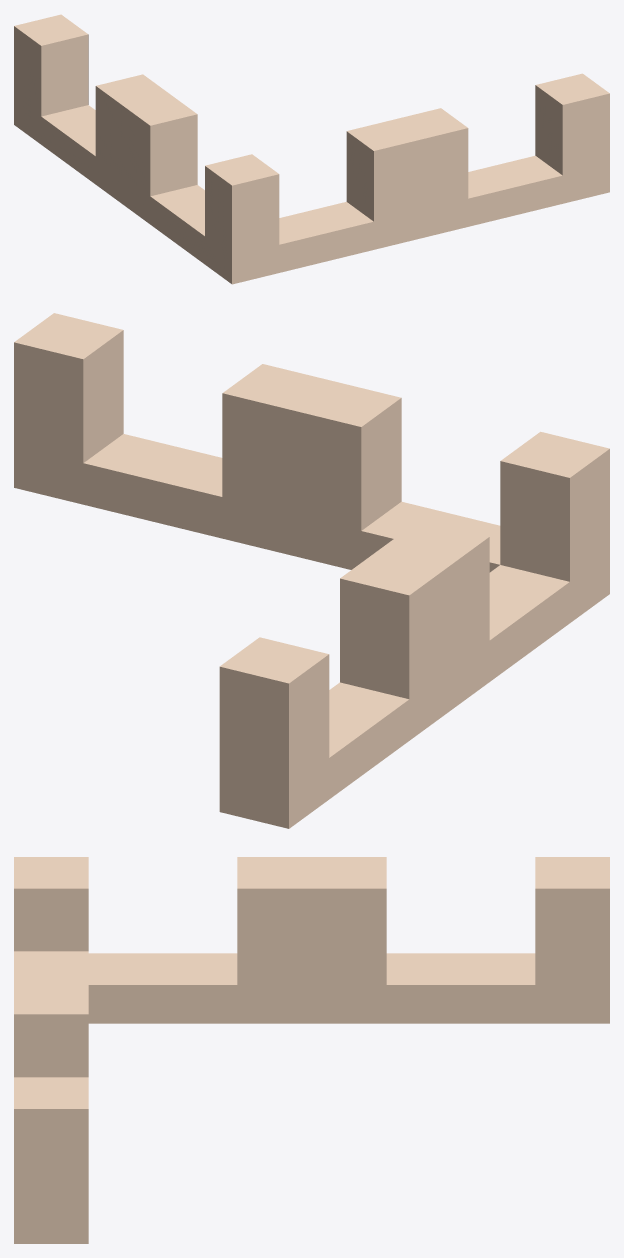
The model's file is Abstract_Castle_Block_0.25_Unit_Beige_Parapet_Corner_Left_01.fbx.
3 views of the same model, one above another, from view 1: azimuth 30°, elevation 25°; view 2: azimuth 150°, elevation 25°; view 3: azimuth 270°, elevation 25° (orthographic). The views are drawn at different scales.
Visible parts, largest first — view 1: Model; view 2: Model; view 3: Model.
Boxes of the visible parts, x1,y1,x2,y2 form: Model: (14,14,609,284); Model: (14,313,609,828); Model: (14,857,609,1243).
Bounding box in the file's own units: 1000 × 250 × 1000.
